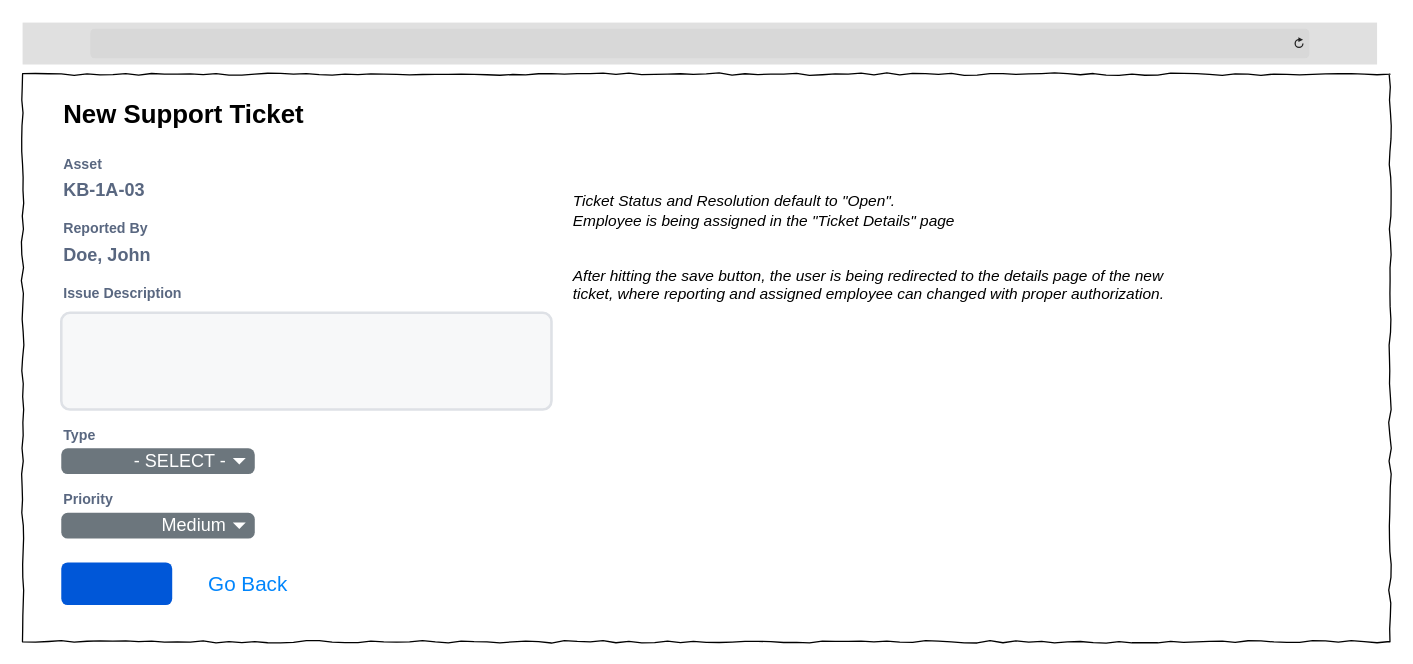
Image size: 1413x664. Some labels were removed from this diagram. The centre of each missing label's shape, as x and y in pixels:
"companyitassets/tickets/add" goes at (x=699, y=42).
"Save" goes at (x=116, y=583).
